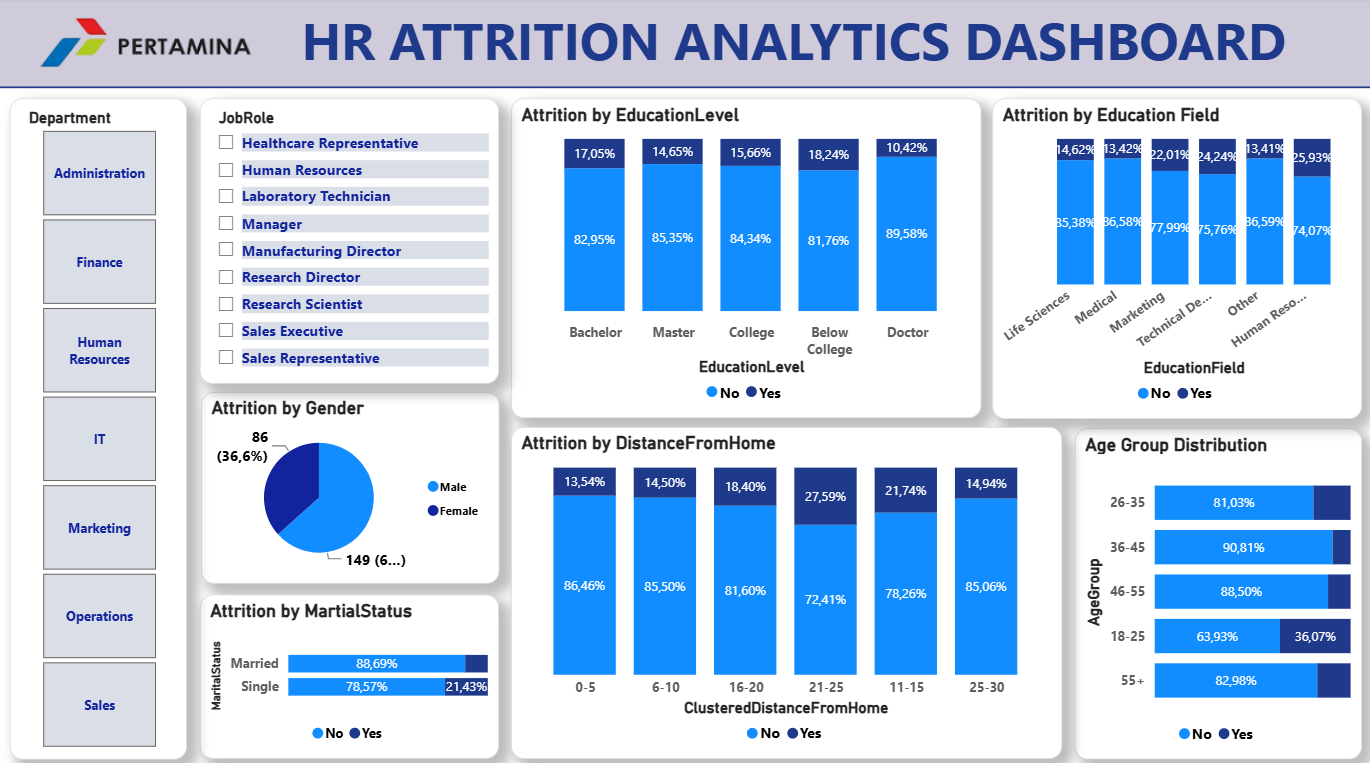

This screenshot's page, from the dashboard's own definition file:
{"tool":"powerbi","page":{"name":"Demographic","canvas":[1280,720],"ordinal":1},"visuals":[{"type":"textbox","box":[0,0,1280.3,85.1],"z":0},{"type":"image","box":[30,0,217.5,85],"z":1000},{"type":"hundredPercentStackedBarChart","title":"Age Group Distribution","fields":{"Category":["HR_Analytics_4.AgeGroup"],"Y":["Sum(HR_Analytics_4.EmployeeCount)"],"Series":["HR_Analytics_4.Attrition"]},"box":[1003,401,267,308],"z":2000},{"type":"pieChart","title":"Attrition by Gender","fields":{"Category":["HR_Analytics_4.Gender"],"Y":["Sum(HR_Analytics_4.AttritionCount)"]},"box":[191.1,367.8,277.2,178.3],"z":3000},{"type":"hundredPercentStackedBarChart","title":"Attrition by MartialStatus","fields":{"Category":["HR_Analytics_4.MaritalStatus"],"Y":["CountNonNull(HR_Analytics_4.EmpID)"],"Series":["HR_Analytics_4.Attrition"]},"box":[190,556.1,278.3,152.8],"z":4000},{"type":"hundredPercentStackedColumnChart","title":"Attrition by EducationLevel","fields":{"Category":["HR_Analytics_4.EducationLevel"],"Y":["CountNonNull(HR_Analytics_4.EmpID)"],"Series":["HR_Analytics_4.Attrition"]},"box":[478.8,93.8,437.5,297.5],"z":5000},{"type":"hundredPercentStackedColumnChart","title":"Attrition by Education Field","fields":{"Category":["HR_Analytics_4.EducationField"],"Series":["HR_Analytics_4.Attrition"],"Y":["CountNonNull(HR_Analytics_4.EmpID)"]},"box":[926.2,93.8,343.8,298.8],"z":6000},{"type":"hundredPercentStackedColumnChart","title":"Attrition by DistanceFromHome","fields":{"Category":["HR_Analytics_4.ClusteredDistanceFromHome"],"Series":["HR_Analytics_4.Attrition"],"Y":["CountNonNull(HR_Analytics_4.EmpID)"]},"box":[479,400,513,309],"z":7000},{"type":"slicer","fields":{"Values":["HR_Analytics_4.Department"]},"box":[12.8,94.2,165.1,615.1],"z":8000},{"type":"slicer","fields":{"Values":["HR_Analytics_4.JobRole"]},"box":[190,94.4,278.3,265.6],"z":9000}]}

Visuals, with their boxes in screenshot pixels (x1, y1, x2, y2), scaled from the page's 1280x720 canvas onto the 1370x763 screenshot:
textbox: [0,0,1369,90]
image: [32,0,265,90]
"Age Group Distribution" hundredPercentStackedBarChart: [1074,425,1359,751]
"Attrition by Gender" pieChart: [205,390,501,579]
"Attrition by MartialStatus" hundredPercentStackedBarChart: [203,589,501,751]
"Attrition by EducationLevel" hundredPercentStackedColumnChart: [512,99,981,415]
"Attrition by Education Field" hundredPercentStackedColumnChart: [991,99,1359,416]
"Attrition by DistanceFromHome" hundredPercentStackedColumnChart: [513,424,1062,751]
slicer - HR_Analytics_4.Department: [14,100,190,752]
slicer - HR_Analytics_4.JobRole: [203,100,501,382]
